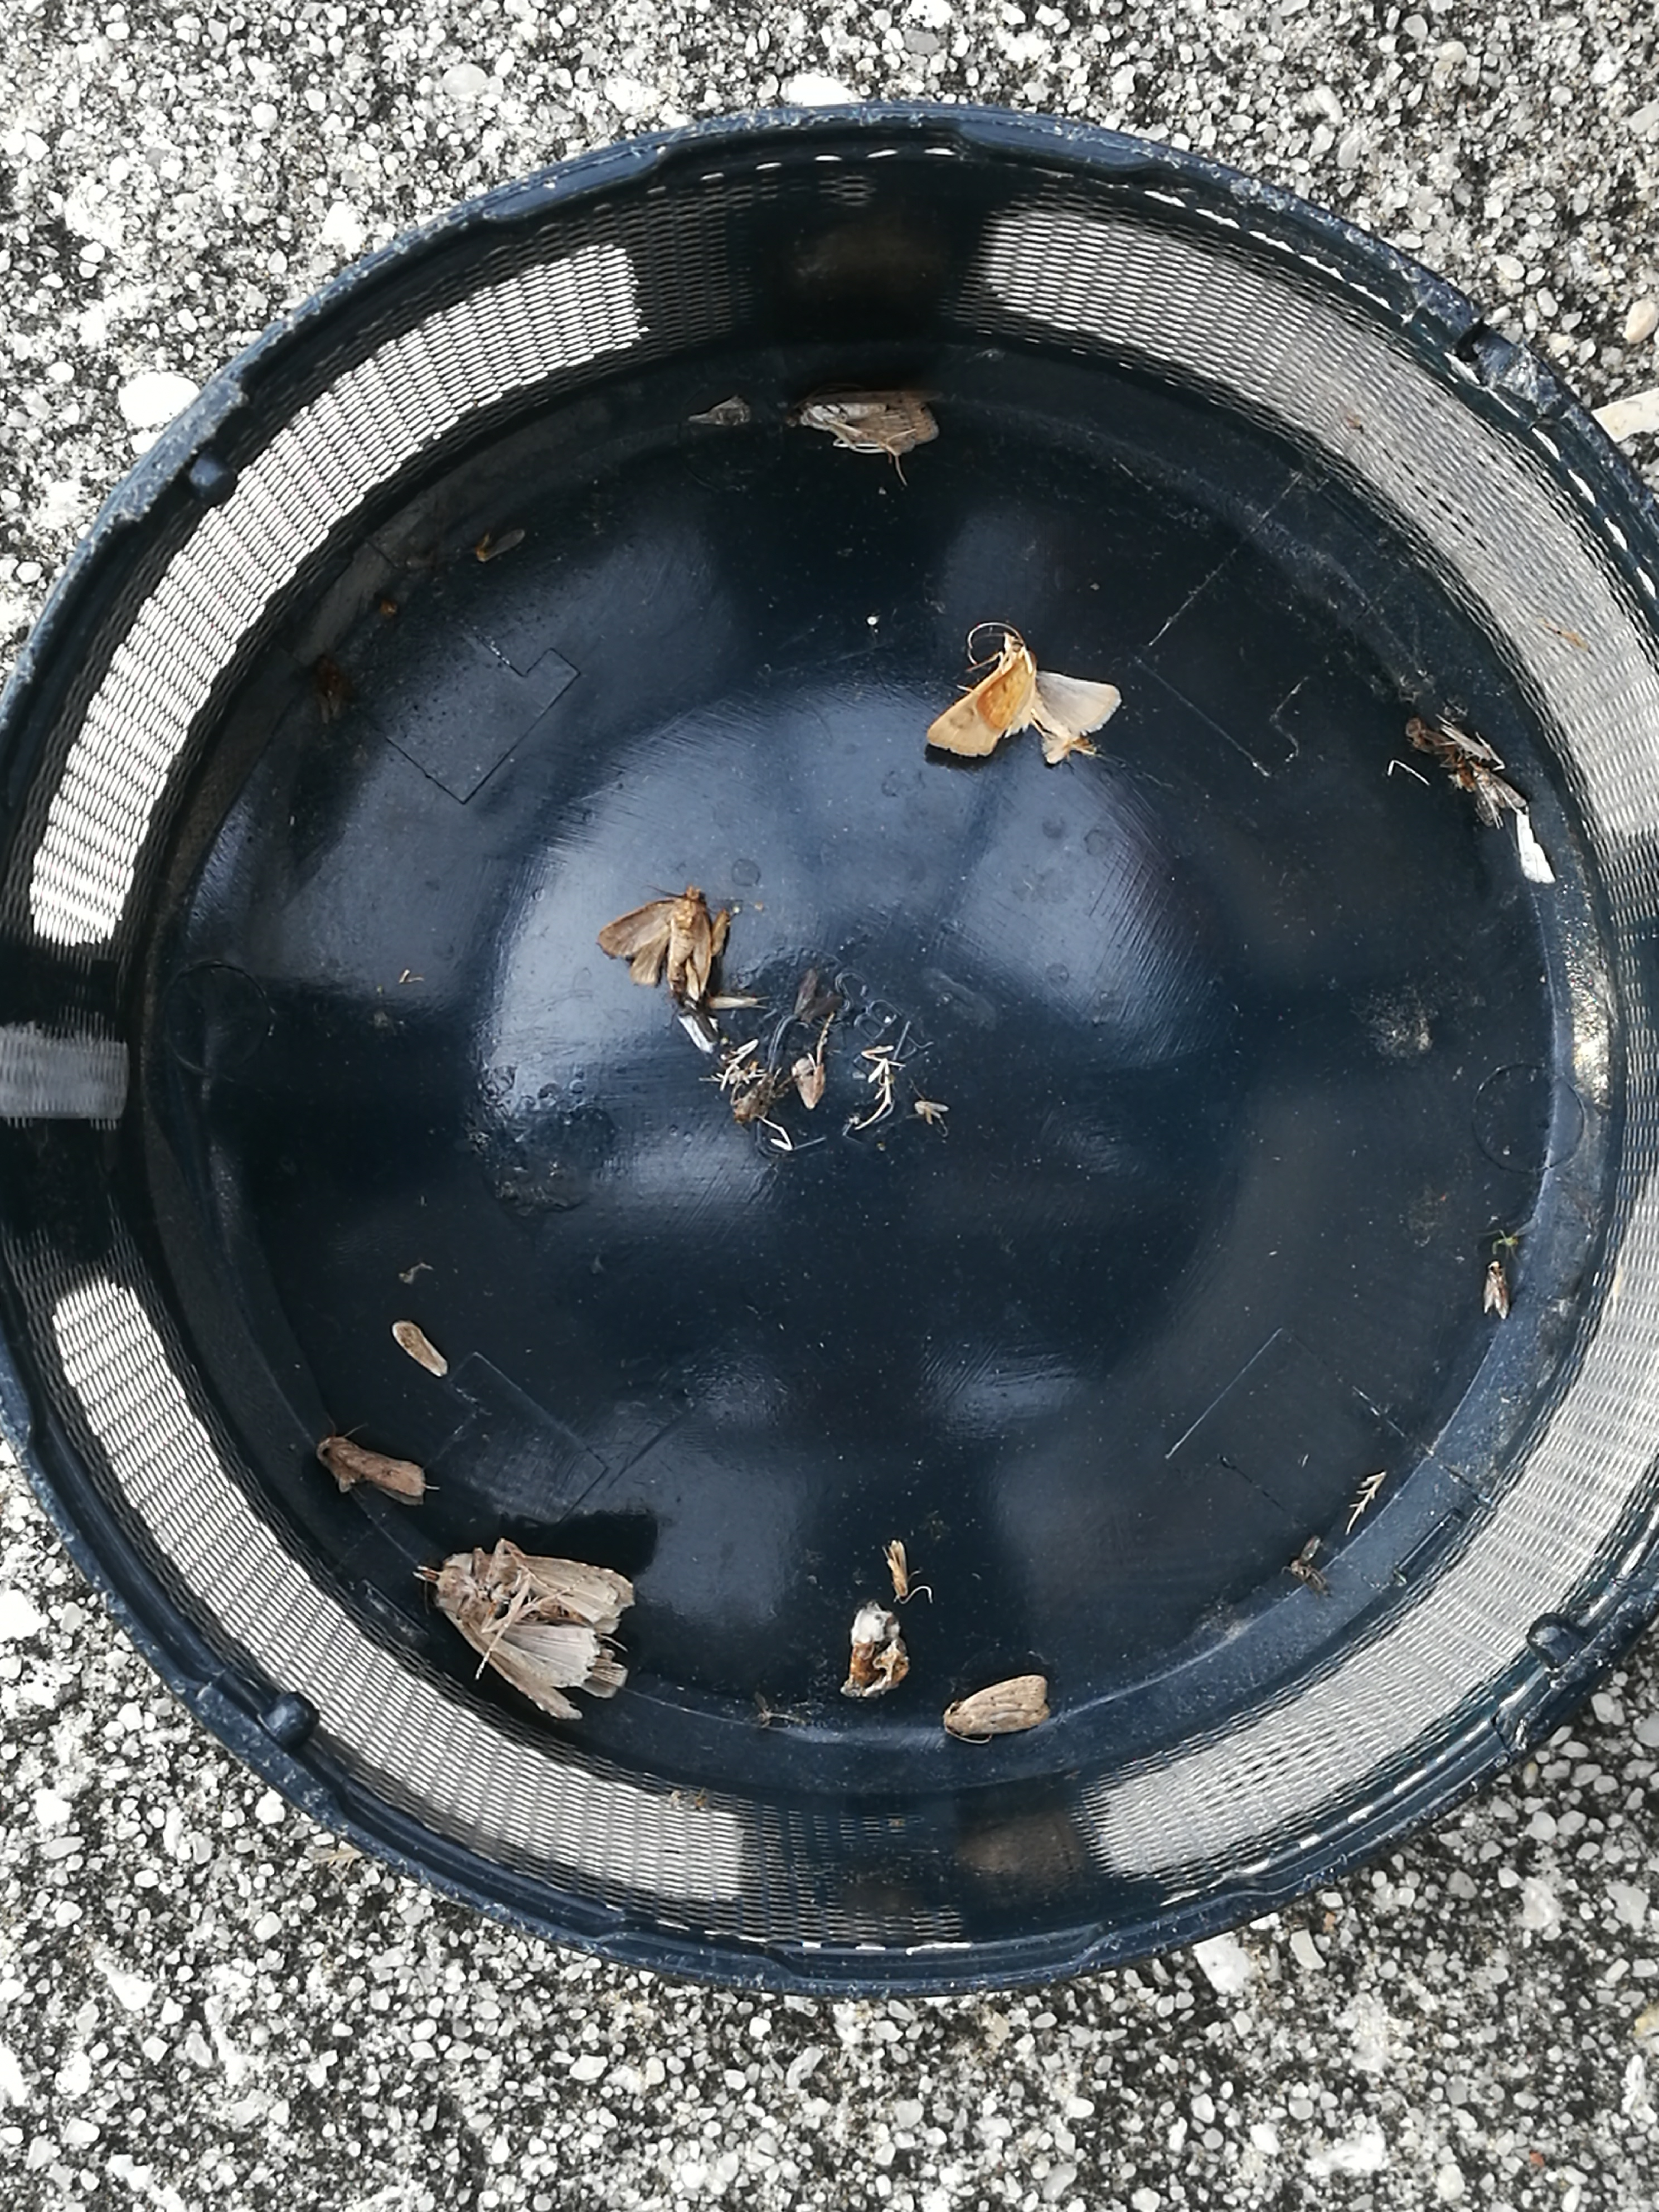moth: (441, 1557, 627, 1721), (931, 643, 1121, 756), (601, 890, 711, 993), (788, 395, 934, 451), (946, 1674, 1049, 1740), (321, 1440, 422, 1501)
